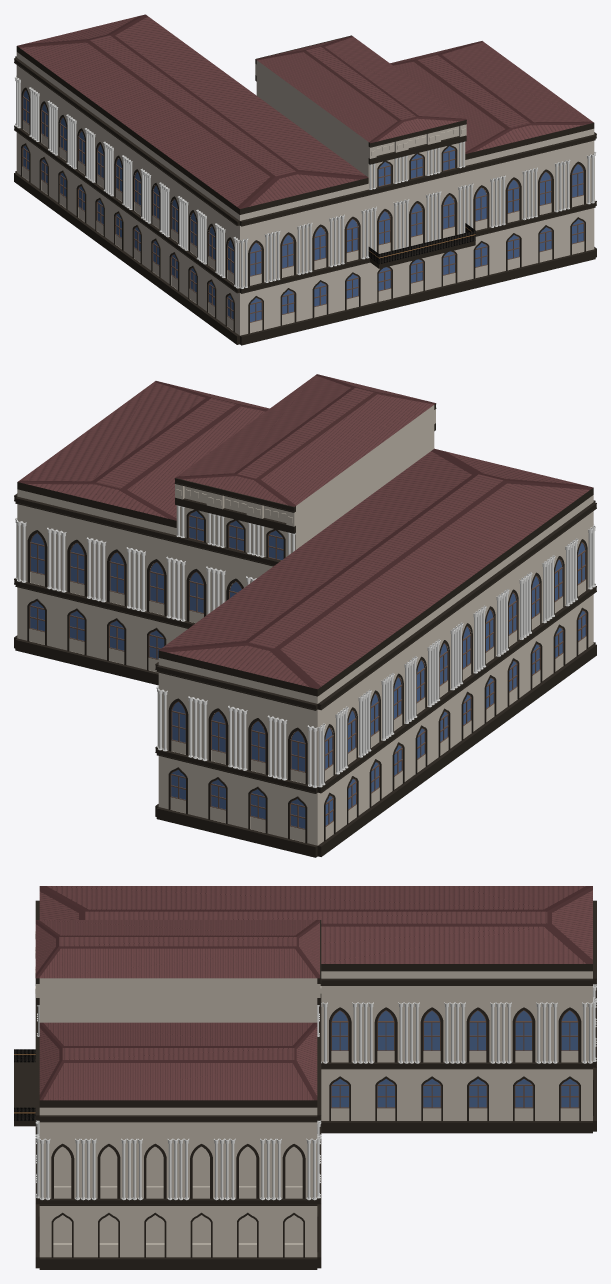
File: Dim-Gubernatora.gltf
The picture shows the model from 3 angles, top to bottom: view 1: azimuth 30°, elevation 25°; view 2: azimuth 150°, elevation 25°; view 3: azimuth 270°, elevation 25°; orthographic projection. The views are drawn at different scales.
Parts seen in each view (by area): view 1: root; view 2: root; view 3: root.
Boxes of the visible parts, x1,y1,x2,y2 form: root: (14,14,596,345); root: (14,374,596,857); root: (14,886,596,1269).
Size of the model in its own units: 52.32 by 24.57 by 59.19.
8 materials, 2 textured.
